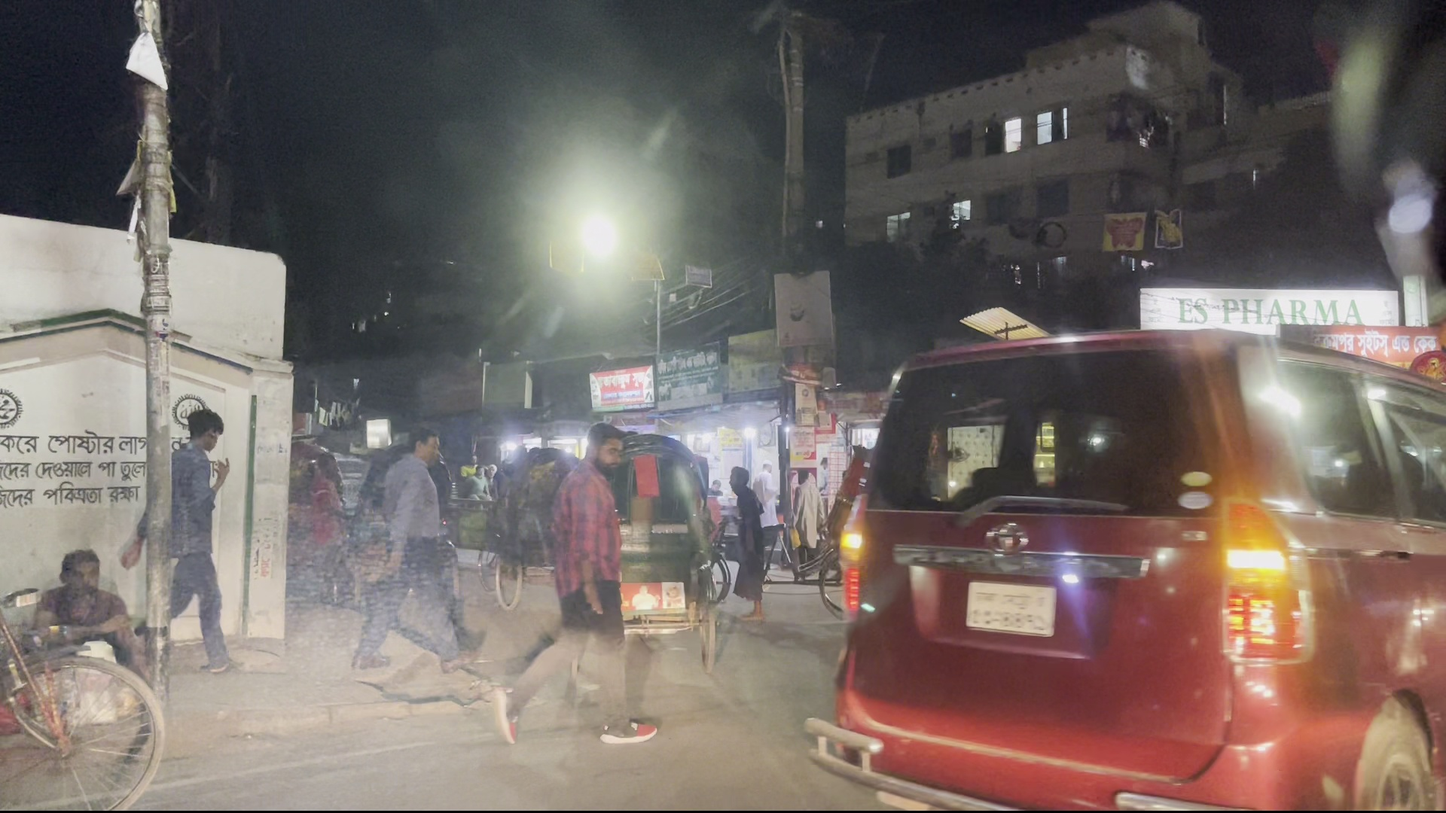car: (819, 311, 1446, 809)
person: (494, 420, 657, 745), (121, 401, 234, 687), (367, 428, 470, 664), (721, 461, 774, 626)
